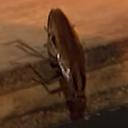cockroach: (44, 6, 88, 100)
